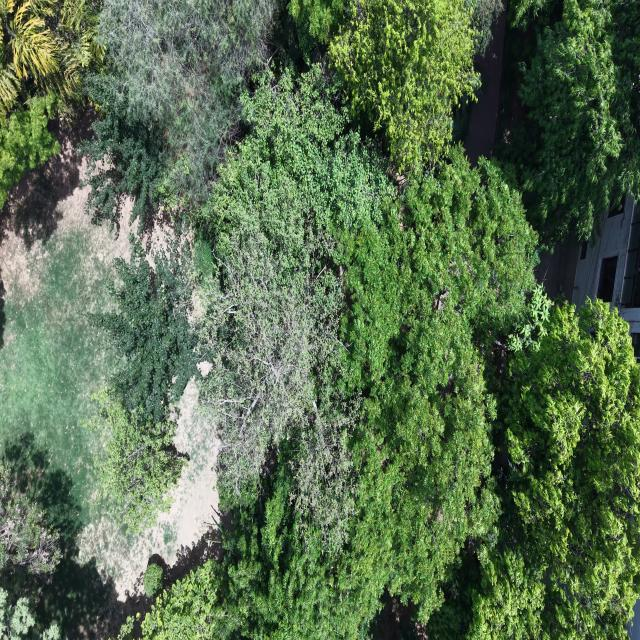DRY_AREA: (0, 141, 217, 601)
VEGETATION_TREE: (0, 0, 639, 639), (143, 67, 535, 637), (200, 67, 535, 499), (344, 150, 535, 622), (199, 67, 395, 515), (428, 301, 639, 639), (143, 448, 458, 639), (469, 301, 639, 638), (85, 0, 280, 221), (88, 0, 278, 217), (0, 155, 118, 492), (288, 0, 501, 173), (503, 0, 639, 247), (508, 0, 639, 246), (87, 235, 195, 530), (329, 0, 478, 172), (0, 434, 112, 639), (0, 0, 104, 206), (91, 236, 196, 422), (87, 390, 186, 531), (81, 74, 168, 228), (0, 0, 104, 114), (3, 434, 80, 576), (0, 461, 60, 639), (0, 462, 60, 575), (0, 94, 59, 207), (287, 0, 346, 55), (0, 588, 60, 639), (509, 284, 552, 352), (287, 0, 344, 44), (468, 0, 504, 55), (144, 563, 163, 597), (0, 280, 6, 347)
WATERBODY: (0, 187, 217, 635), (0, 189, 128, 504)
